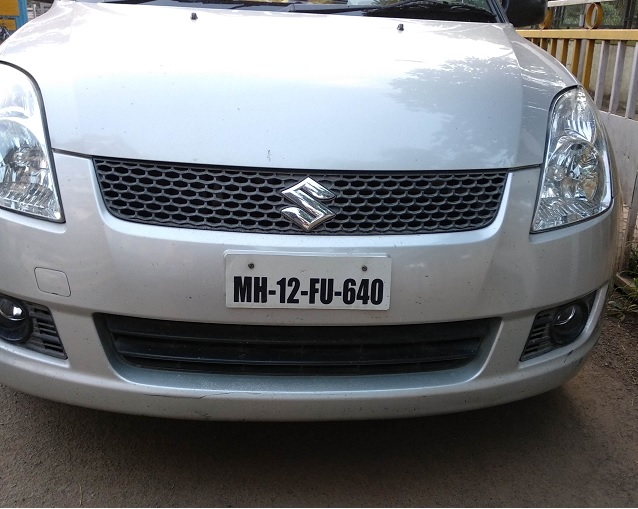licenseplate: (223, 250, 396, 315)
